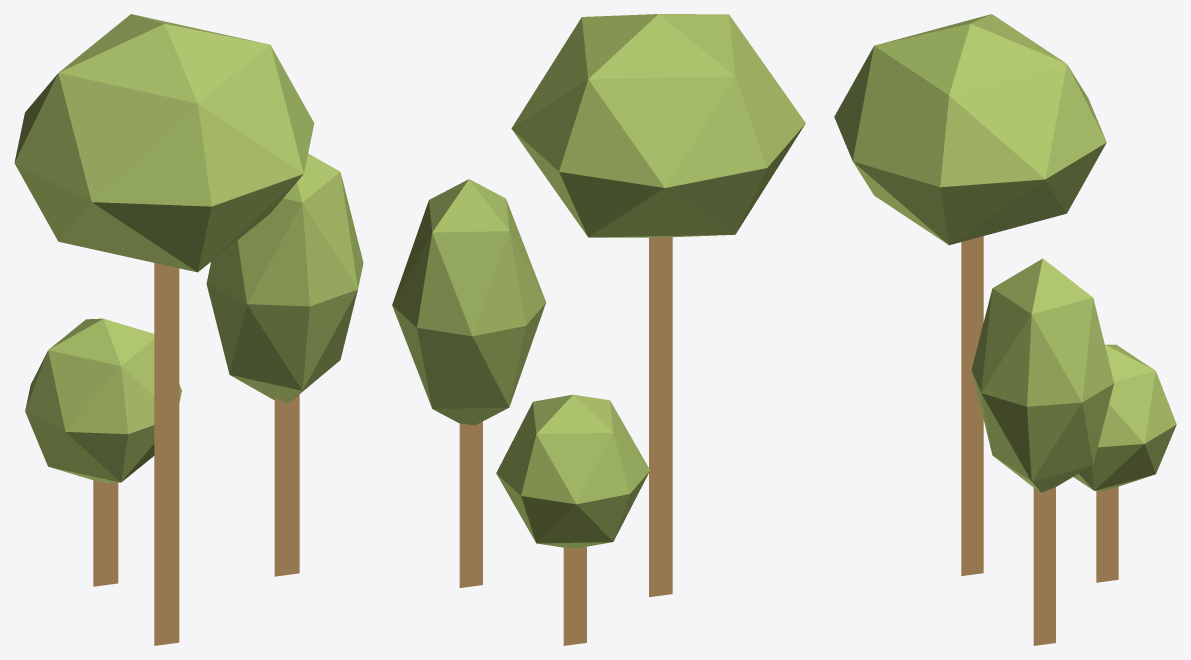
The model's file is bush_2.FBX.
3 renders of one model, left to right at view 1: azimuth 30°, elevation 25°; view 2: azimuth 150°, elevation 25°; view 3: azimuth 270°, elevation 25°, orthographic. The views are drawn at different scales.
Parts seen in each view (by area): view 1: Cylinder046; view 2: Cylinder046; view 3: Cylinder046.
Part boxes in pixels (x1,y1,x2,y2): Cylinder046: [14, 14, 363, 645]; Cylinder046: [392, 14, 805, 645]; Cylinder046: [834, 14, 1176, 645].
Size of the model in its own units: 4.46 by 7.24 by 4.1.
Materials: 1 (1 with a texture image).
